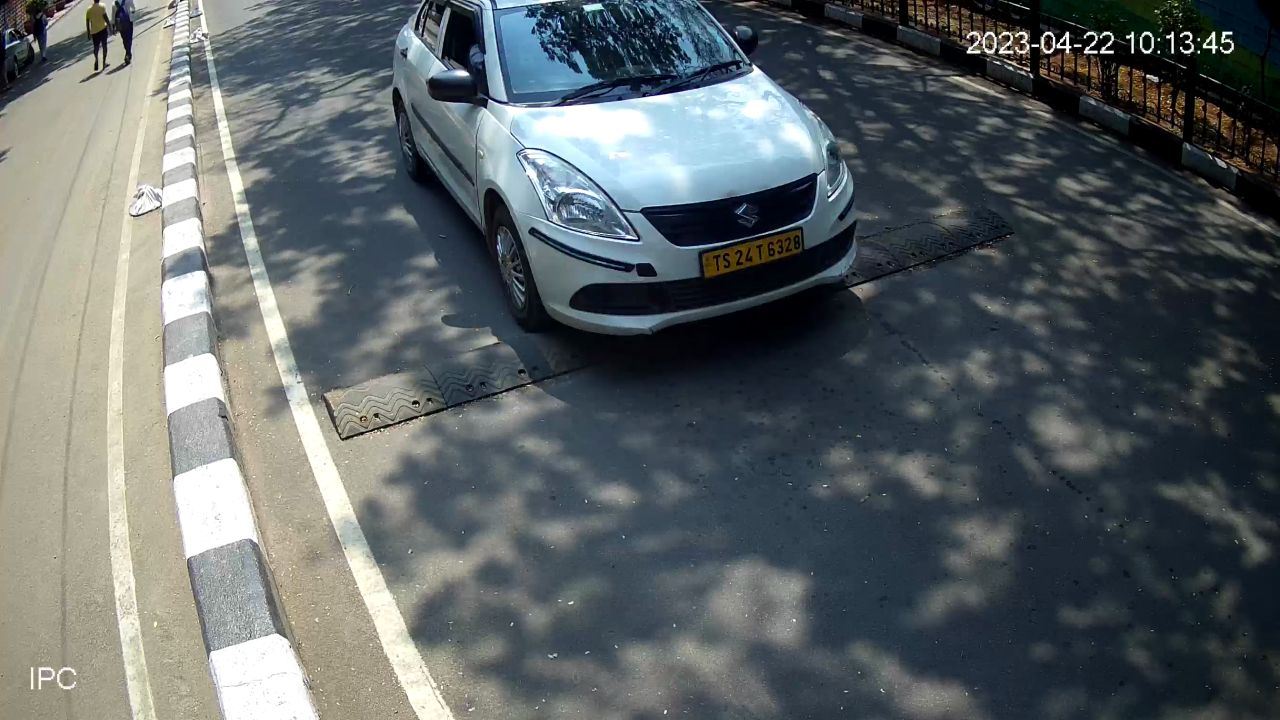license_plate: (693, 215, 812, 286)
